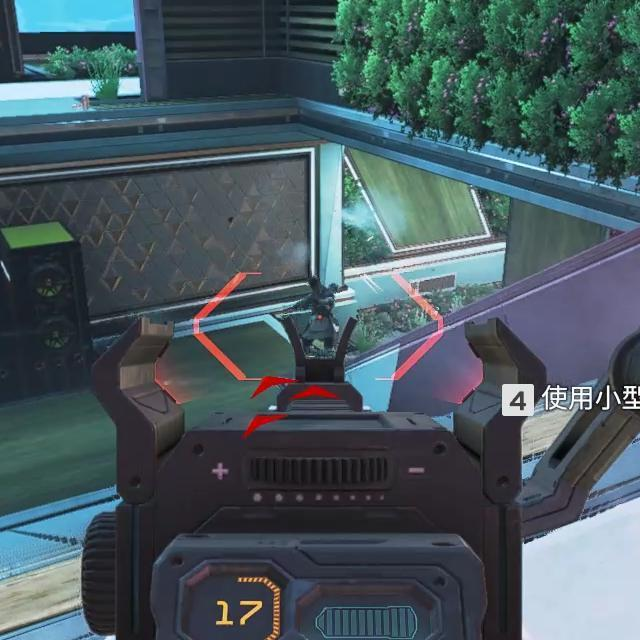avatar: (291, 275, 340, 356)
